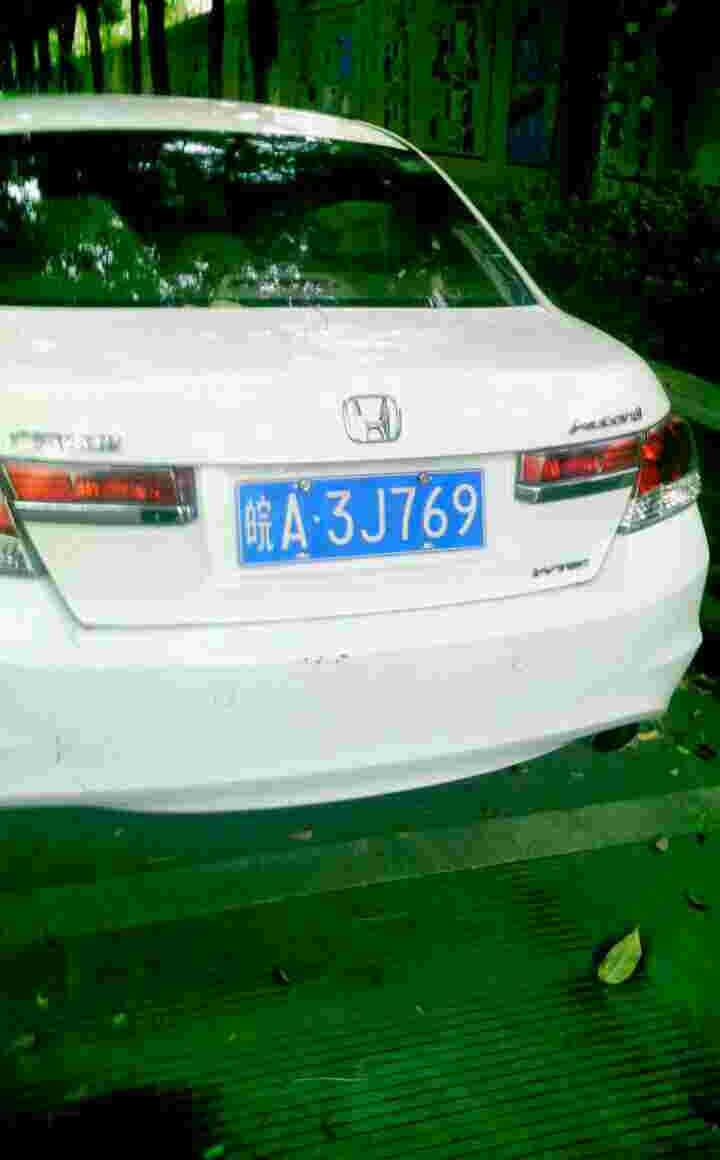license_plate: (245, 479, 484, 562)
